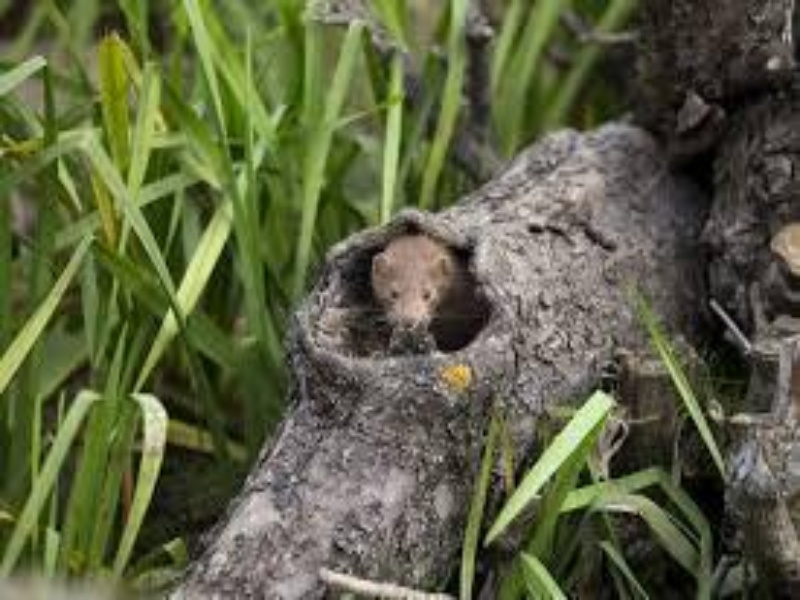minkish: (367, 233, 471, 342)
